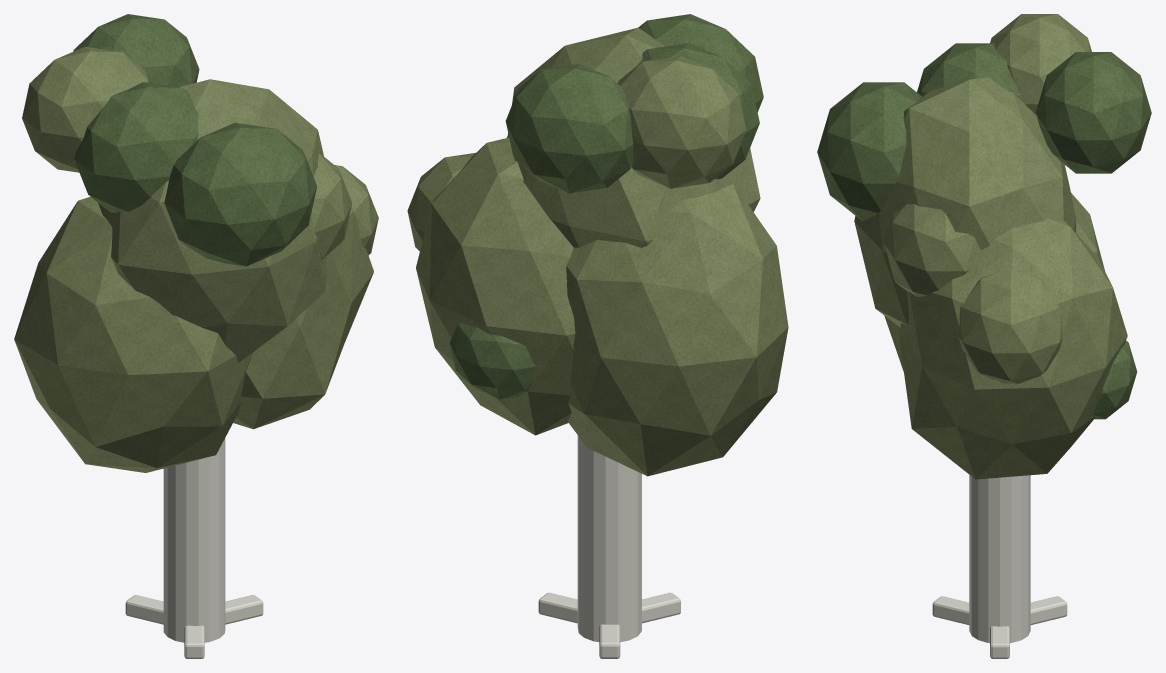
File: NAT_TREE_BIRCH_1x1_001.glb
3 views of the same model, side by side, from view 1: azimuth 30°, elevation 25°; view 2: azimuth 150°, elevation 25°; view 3: azimuth 270°, elevation 25° (orthographic). The views are drawn at different scales.
Visible parts, largest first — view 1: NAT_TREE_BIRCH_1x1_001_Visual; view 2: NAT_TREE_BIRCH_1x1_001_Visual; view 3: NAT_TREE_BIRCH_1x1_001_Visual.
Boxes of the visible parts, box(x1,y1,x2,y2) form: NAT_TREE_BIRCH_1x1_001_Visual: box(14, 14, 378, 658); NAT_TREE_BIRCH_1x1_001_Visual: box(407, 14, 788, 658); NAT_TREE_BIRCH_1x1_001_Visual: box(817, 14, 1151, 658).
Size of what is drawn, in the model's own units: 1.27 by 2.07 by 1.1.
Materials: 3 (2 with a texture image).
